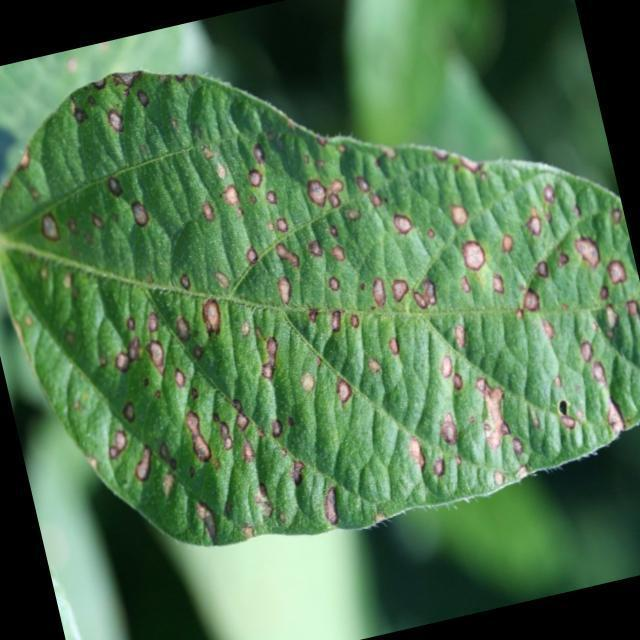Septoria: (2, 0, 640, 569)
